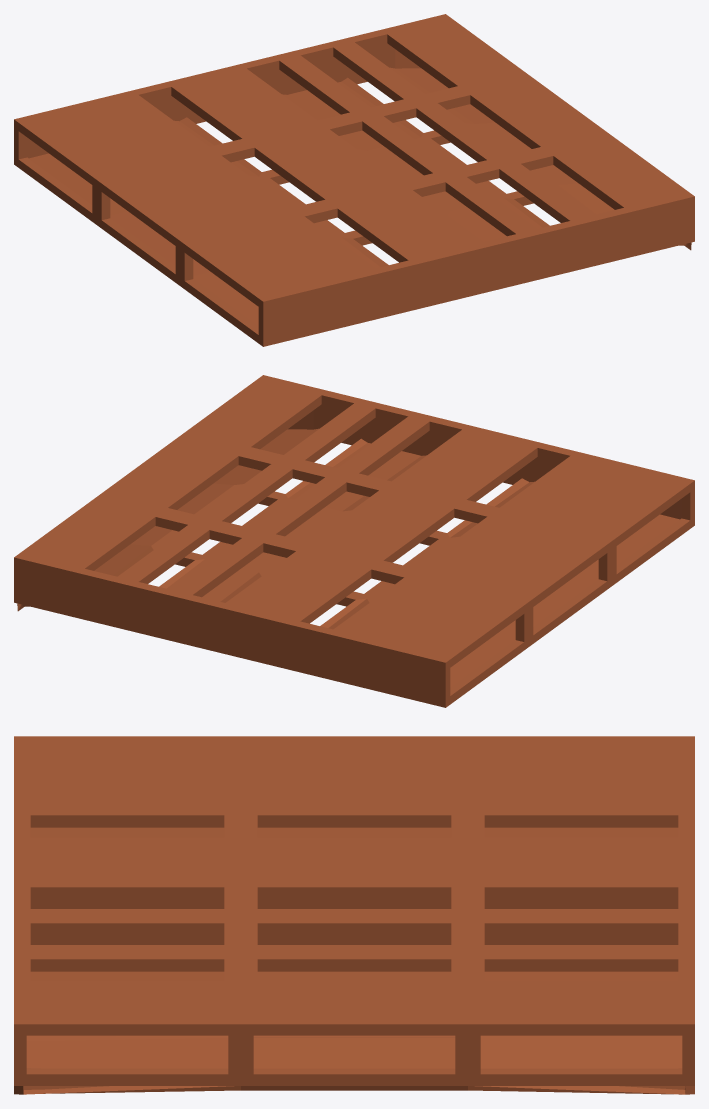
File: CrateBase.glb
3 views of the same model, one above another, from view 1: azimuth 30°, elevation 25°; view 2: azimuth 150°, elevation 25°; view 3: azimuth 270°, elevation 25° (orthographic). The views are drawn at different scales.
Parts seen in each view (by area): view 1: Cube; view 2: Cube; view 3: Cube.
Boxes of the visible parts, x1,y1,x2,y2 form: Cube: (14,14,694,346); Cube: (14,375,694,707); Cube: (14,736,694,1094).
Size of the model in its own units: 2 by 0.2358 by 2.
